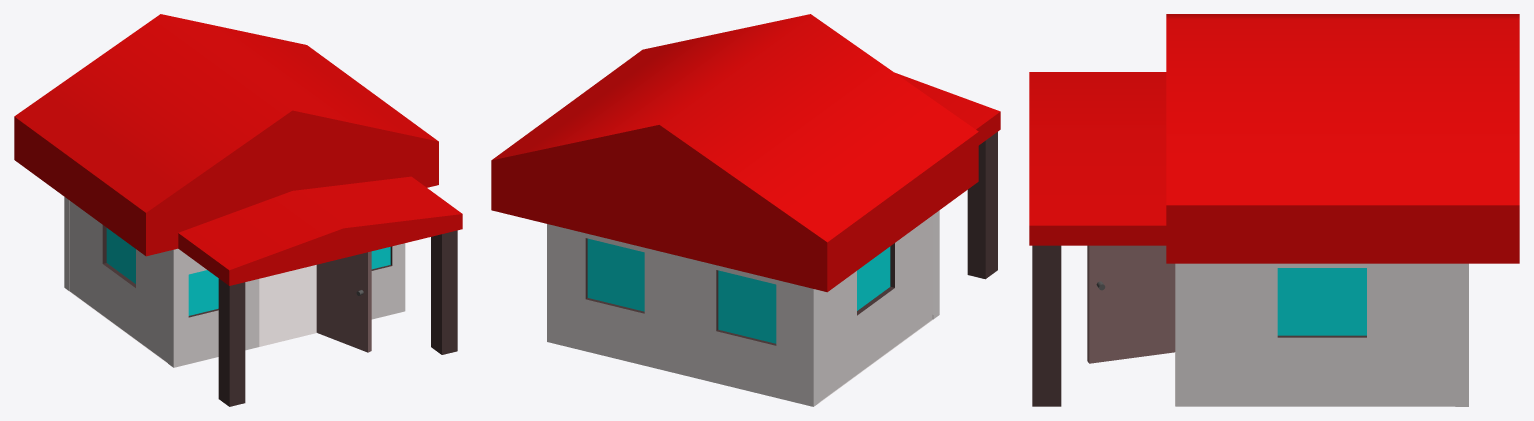
File: Home.fbx
The picture shows the model from 3 angles, left to right: view 1: azimuth 30°, elevation 25°; view 2: azimuth 150°, elevation 25°; view 3: azimuth 270°, elevation 25°; orthographic projection. The views are drawn at different scales.
Visible parts, largest first — view 1: pCube6, pCube13, pCube15, pCube16, pPlane1, pCube11, pCube12, pCube3; view 2: pCube6, pCube3, pCube13, pCube11, pCube15; view 3: pCube6, pCube14, pCube16, pCube12, pCube15, pCube3.
Part boxes in pixels (x1,y1,x2,y2): pCube6: [14, 14, 462, 285]; pCube13: [69, 201, 167, 362]; pCube15: [168, 243, 405, 367]; pCube16: [316, 251, 371, 352]; pPlane1: [65, 265, 396, 367]; pCube11: [218, 278, 245, 406]; pCube12: [431, 230, 457, 354]; pCube3: [64, 197, 69, 290]; pCube6: [491, 14, 1000, 292]; pCube3: [547, 224, 819, 406]; pCube13: [819, 215, 933, 401]; pCube11: [967, 132, 997, 279]; pCube15: [932, 210, 939, 319]; pCube6: [1029, 14, 1519, 263]; pCube14: [1190, 263, 1455, 406]; pCube16: [1087, 245, 1175, 363]; pCube12: [1032, 245, 1061, 406]; pCube15: [1175, 263, 1189, 406]; pCube3: [1455, 263, 1468, 406].
Bounding box in the file's own units: 36.6 × 27.74 × 39.61.
